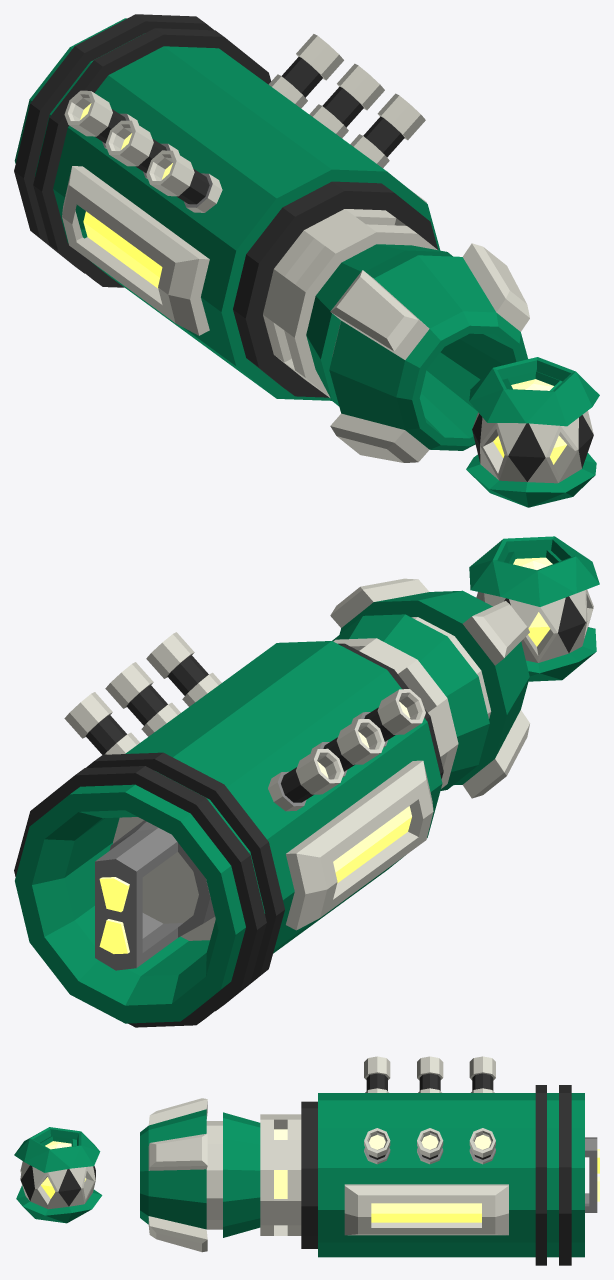
The model's file is RelicCannon.fbx.
The picture shows the model from 3 angles, top to bottom: view 1: azimuth 30°, elevation 25°; view 2: azimuth 150°, elevation 25°; view 3: azimuth 270°, elevation 25°; orthographic projection. The views are drawn at different scales.
Parts seen in each view (by area): view 1: Cylinder, Icosphere, Cylinder.001; view 2: Cylinder, Cylinder.001, Icosphere; view 3: Cylinder, Icosphere, Cylinder.001.
Boxes of the visible parts, <box> form: Cylinder: <box>14,14,529,462</box>; Icosphere: <box>466,357,599,507</box>; Cylinder.001: <box>64,34,425,212</box>; Cylinder: <box>14,578,529,1027</box>; Cylinder.001: <box>64,632,425,811</box>; Icosphere: <box>469,536,599,681</box>; Cylinder: <box>140,1085,599,1265</box>; Icosphere: <box>14,1127,102,1223</box>; Cylinder.001: <box>364,1056,495,1164</box>.
Bounding box in the file's own units: 175 × 157 × 506.
